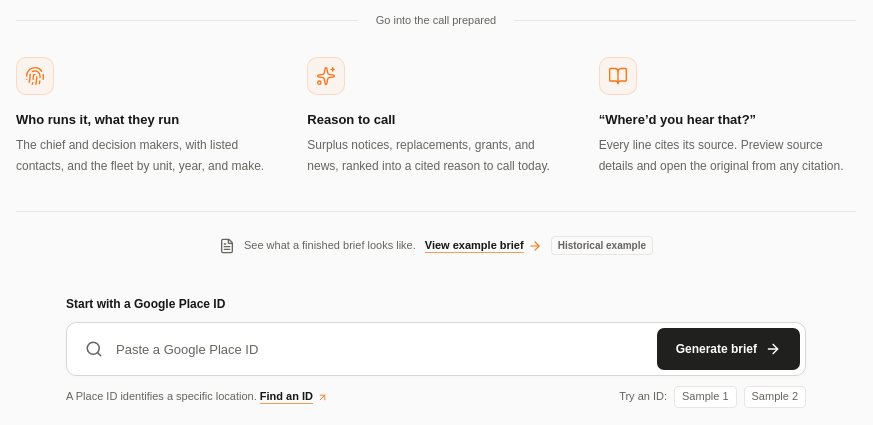
Scenario: ResearchWorkspace › populates example IDs without silently starting paid research
Click the button "Sample 1" at (705, 397), box [674,386,736,408]
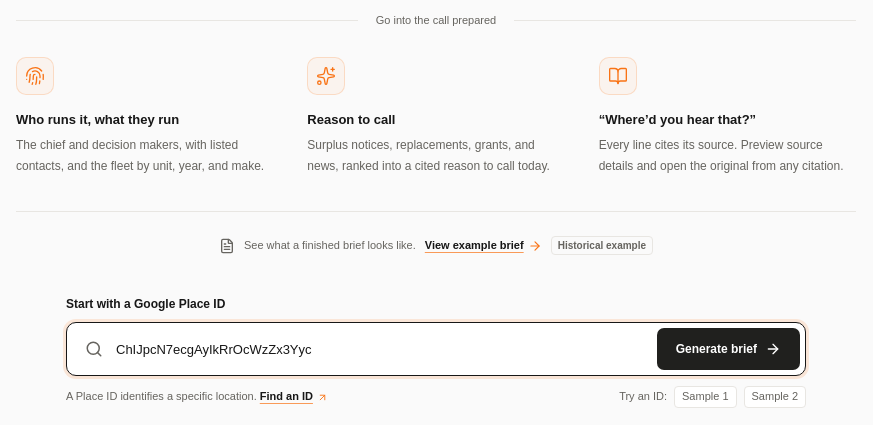
Now the field holds "ChIJpcN7ecgAyIkRrOcWzZx3Yyc", box [106,328,654,370]
